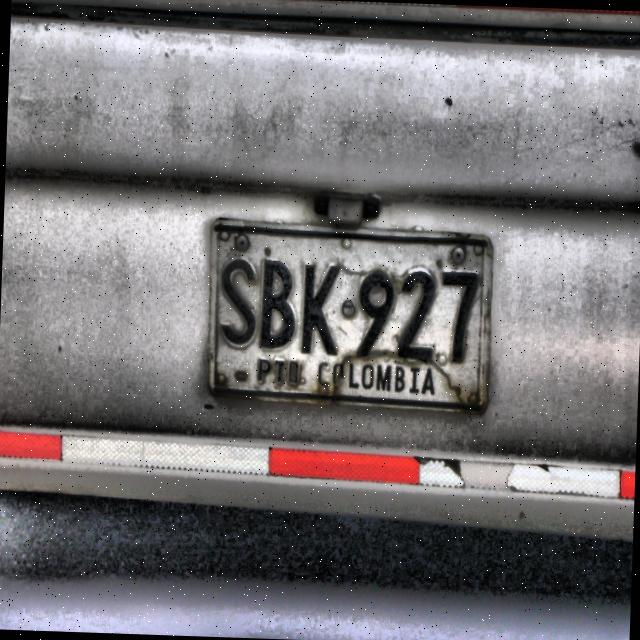2: (396, 267, 440, 365)
7: (436, 265, 478, 366)
9: (354, 264, 396, 362)
B: (258, 255, 298, 352)
K: (298, 258, 343, 358)
S: (217, 252, 261, 351)
